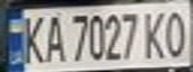0: (87, 10, 106, 62)
2: (103, 9, 124, 61)
7: (66, 10, 90, 63), (121, 8, 142, 61)
A: (39, 11, 69, 64)
K: (139, 7, 169, 61), (18, 11, 48, 65)
O: (160, 6, 193, 58)
